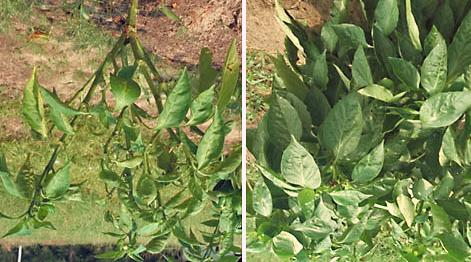Tomato leaf bacterial spot: (313, 94, 366, 168), (430, 3, 471, 96), (279, 132, 323, 193), (157, 64, 197, 131), (209, 39, 241, 121), (18, 60, 48, 142), (196, 107, 230, 178), (418, 86, 471, 130), (350, 133, 389, 185), (348, 41, 377, 98), (423, 36, 448, 95), (111, 63, 142, 110), (334, 18, 374, 53), (42, 162, 75, 202), (373, 0, 401, 41), (439, 129, 465, 169), (133, 218, 164, 232)
